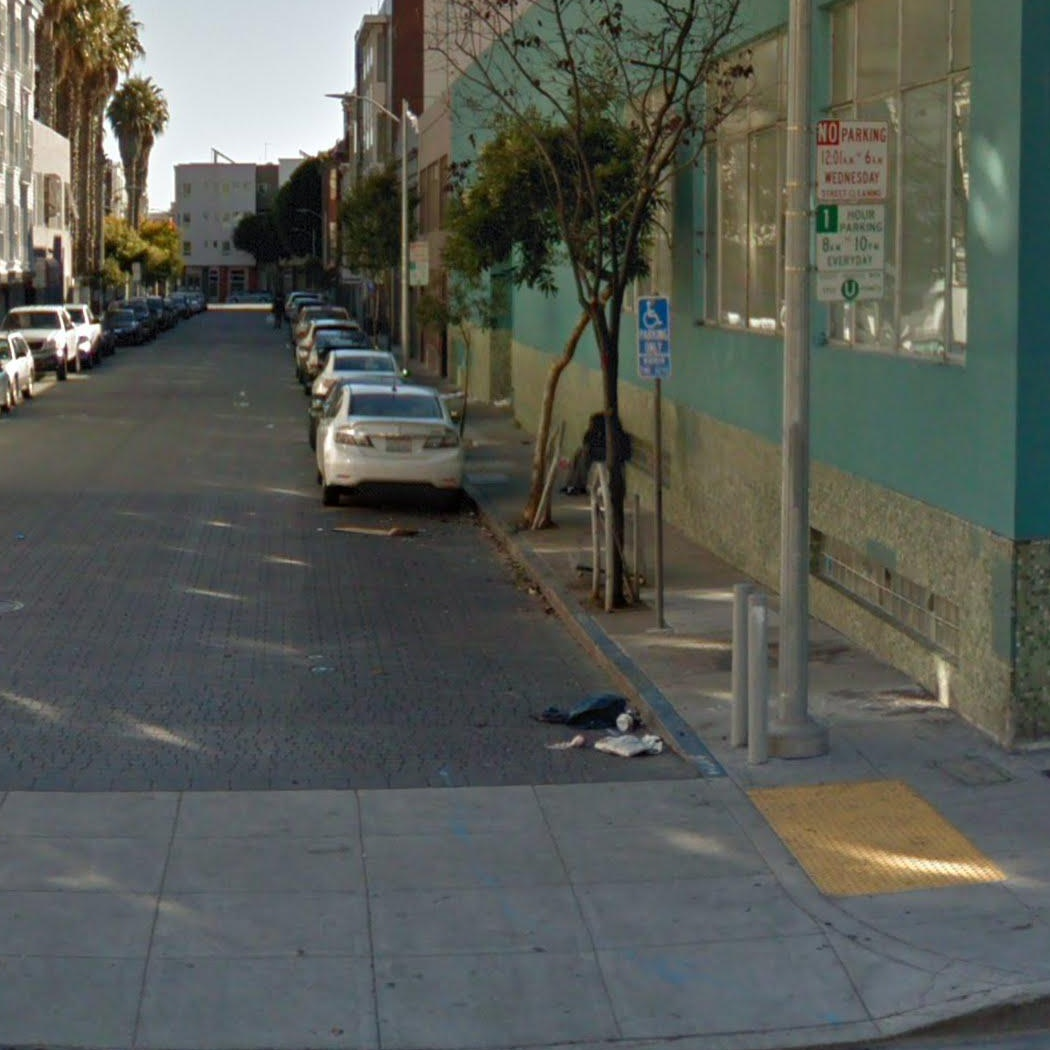1 Hour Parking: (812, 201, 887, 305)
No Parking: (813, 117, 890, 206)
